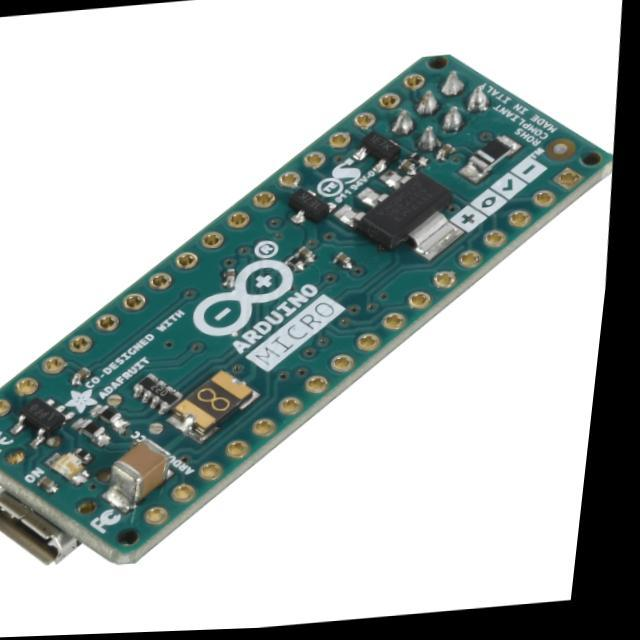Arduino-Micro: (1, 56, 613, 564)
